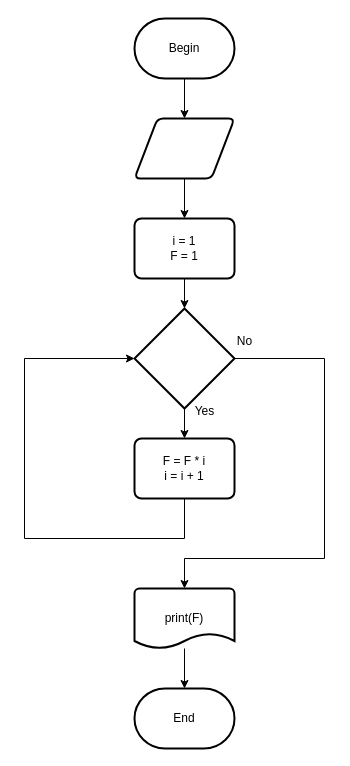
Some shapes in this 350 by 766 pixel diagram are drawn without their labels. The box of each missing label's shape, as (x1, y1, x2, y2) in pixels:
i <= N: (133, 307, 235, 409)
input(N): (133, 117, 235, 179)
